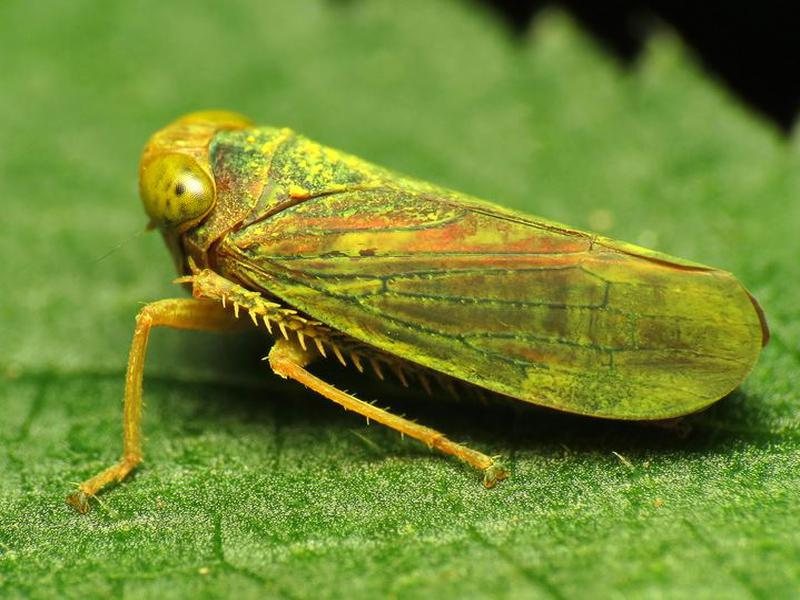Brown_plant_leafhopper: (112, 92, 773, 510)
